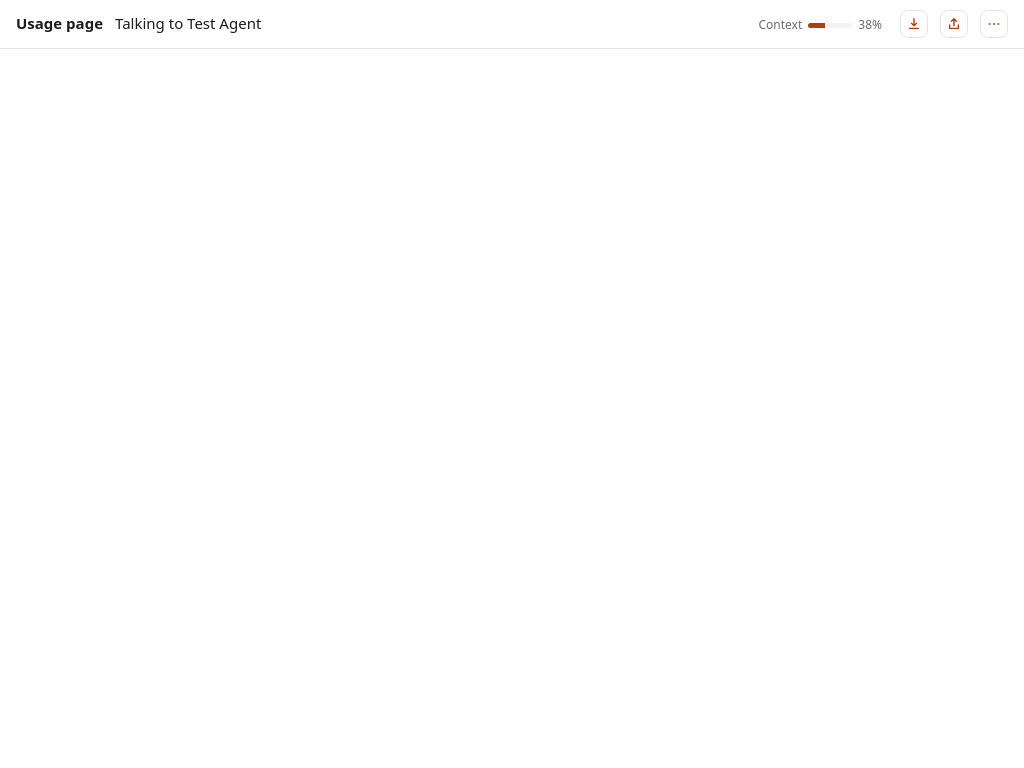
it: ChatHeader › the context panel › opens from the meter and shows the parts
Click the button with class "context" at (820, 25), box [752,14,888,36]
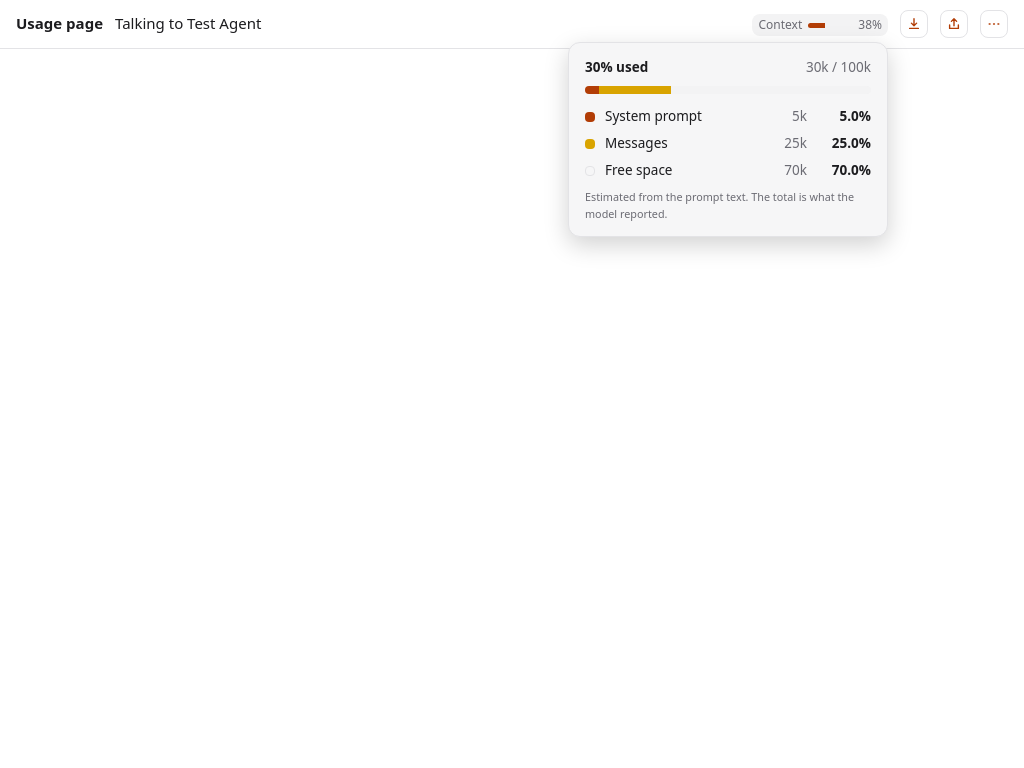
Result: the dialog with test id "context-panel" shows "System prompt" at [605,107,702,125]
Result: the dialog with test id "context-panel" shows "Free space" at [605,161,672,179]
